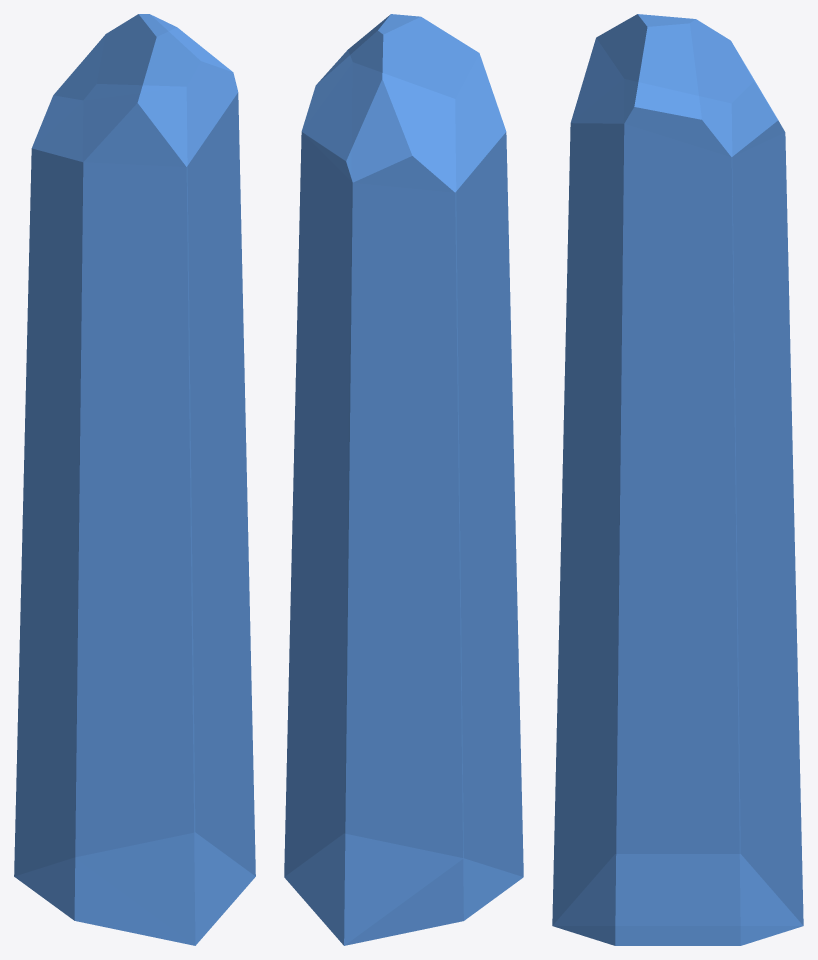
Rendered from Crystal_m_01.fbx.
3 renders of one model, left to right at view 1: azimuth 30°, elevation 25°; view 2: azimuth 150°, elevation 25°; view 3: azimuth 270°, elevation 25°, orthographic. The views are drawn at different scales.
Parts seen in each view (by area): view 1: Crystal_m_01; view 2: Crystal_m_01; view 3: Crystal_m_01.
Boxes of the visible parts, x1,y1,x2,y2 form: Crystal_m_01: [14, 14, 255, 945]; Crystal_m_01: [284, 14, 523, 945]; Crystal_m_01: [552, 14, 803, 945].
Bounding box in the file's own units: 0.3396 × 1.57 × 0.3921.
